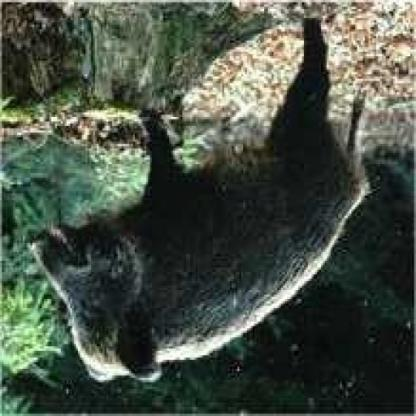boar: (27, 21, 363, 394)
